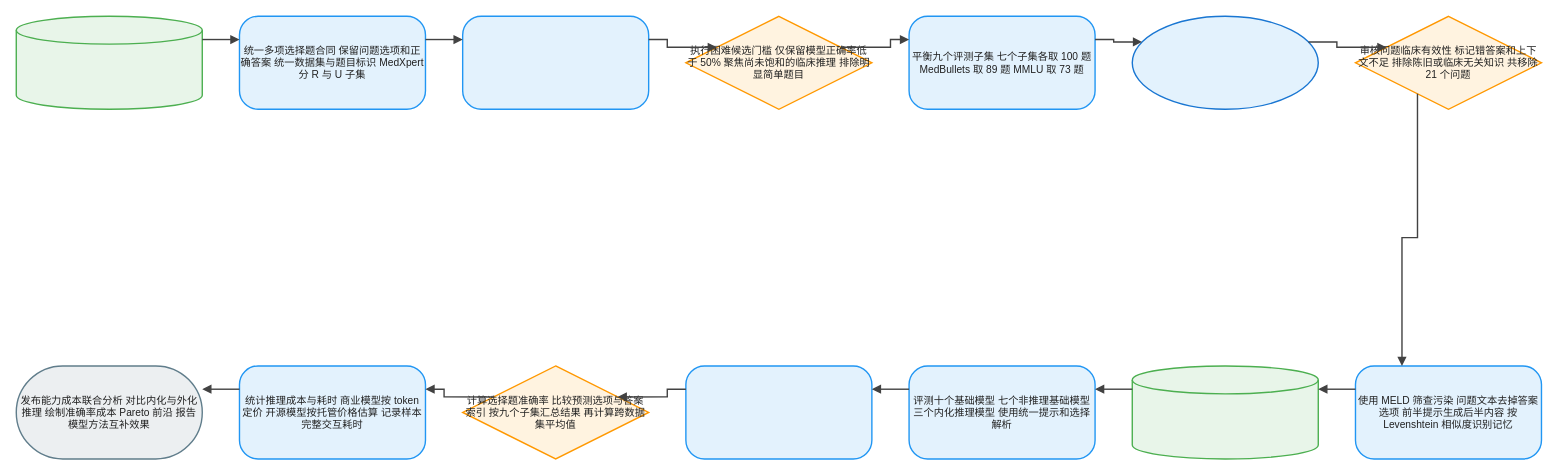
Image size: 1559x476. Some labels were removed from this diagram. Each missing label, with the box of its shape:
发布 MedicalAgentsBench 最终包含 862 道困难题 平均长度 147.4 tokens 覆盖八源集九个子集: (1131, 365, 1319, 459)
核验多步推理深度 四名临床阶段医学生 使用五级推理深度量表 记录离散推理和判断步骤: (1131, 15, 1319, 110)
汇集八个医学问答数据集 MedQA、PubMedQA、MedMCQA MedBullets、MMLU、MMLU-Pro MedExQA 与 MedXpertQA: (15, 15, 203, 110)
用多架构模型探测难度 对每个候选题运行代表模型 统计模型正确作答比例 避免单一架构定义难度: (462, 15, 649, 110)
评测九种外化推理方法 CoT 与 Self-Consistency 三种高级提示方法 四种协作或搜索型 Agent: (685, 365, 872, 459)
